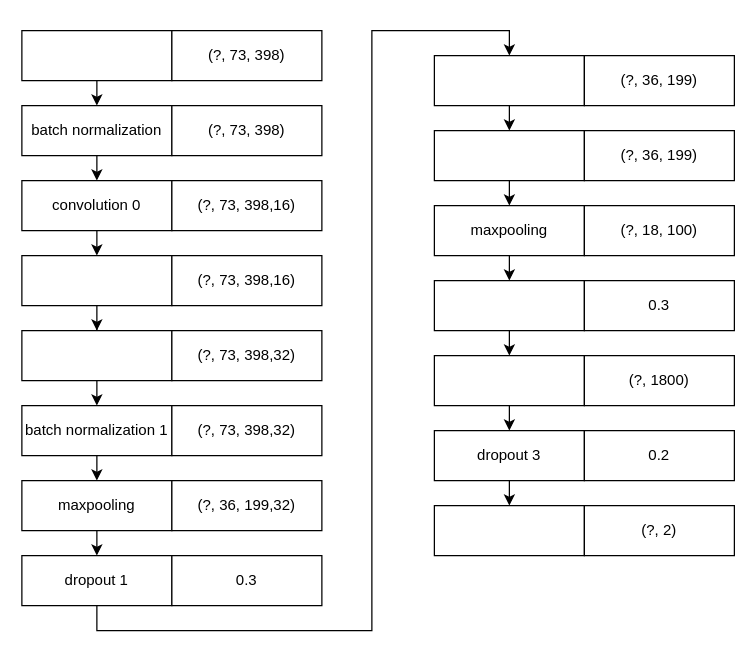
Image size: 756x663. Some labels were removed from this diagram. Here are the shapes that lost their labels. From the top down, the centre of each, then its label:
At pixel 96 55: "Input".
At pixel 508 80: "convolution 2".
At pixel 508 155: "batch normalization 2".
At pixel 96 280: "batch normalization 0".
At pixel 508 305: "dropout 2".
At pixel 96 355: "convolution 1".
At pixel 508 380: "reshape".
At pixel 508 530: "output".
